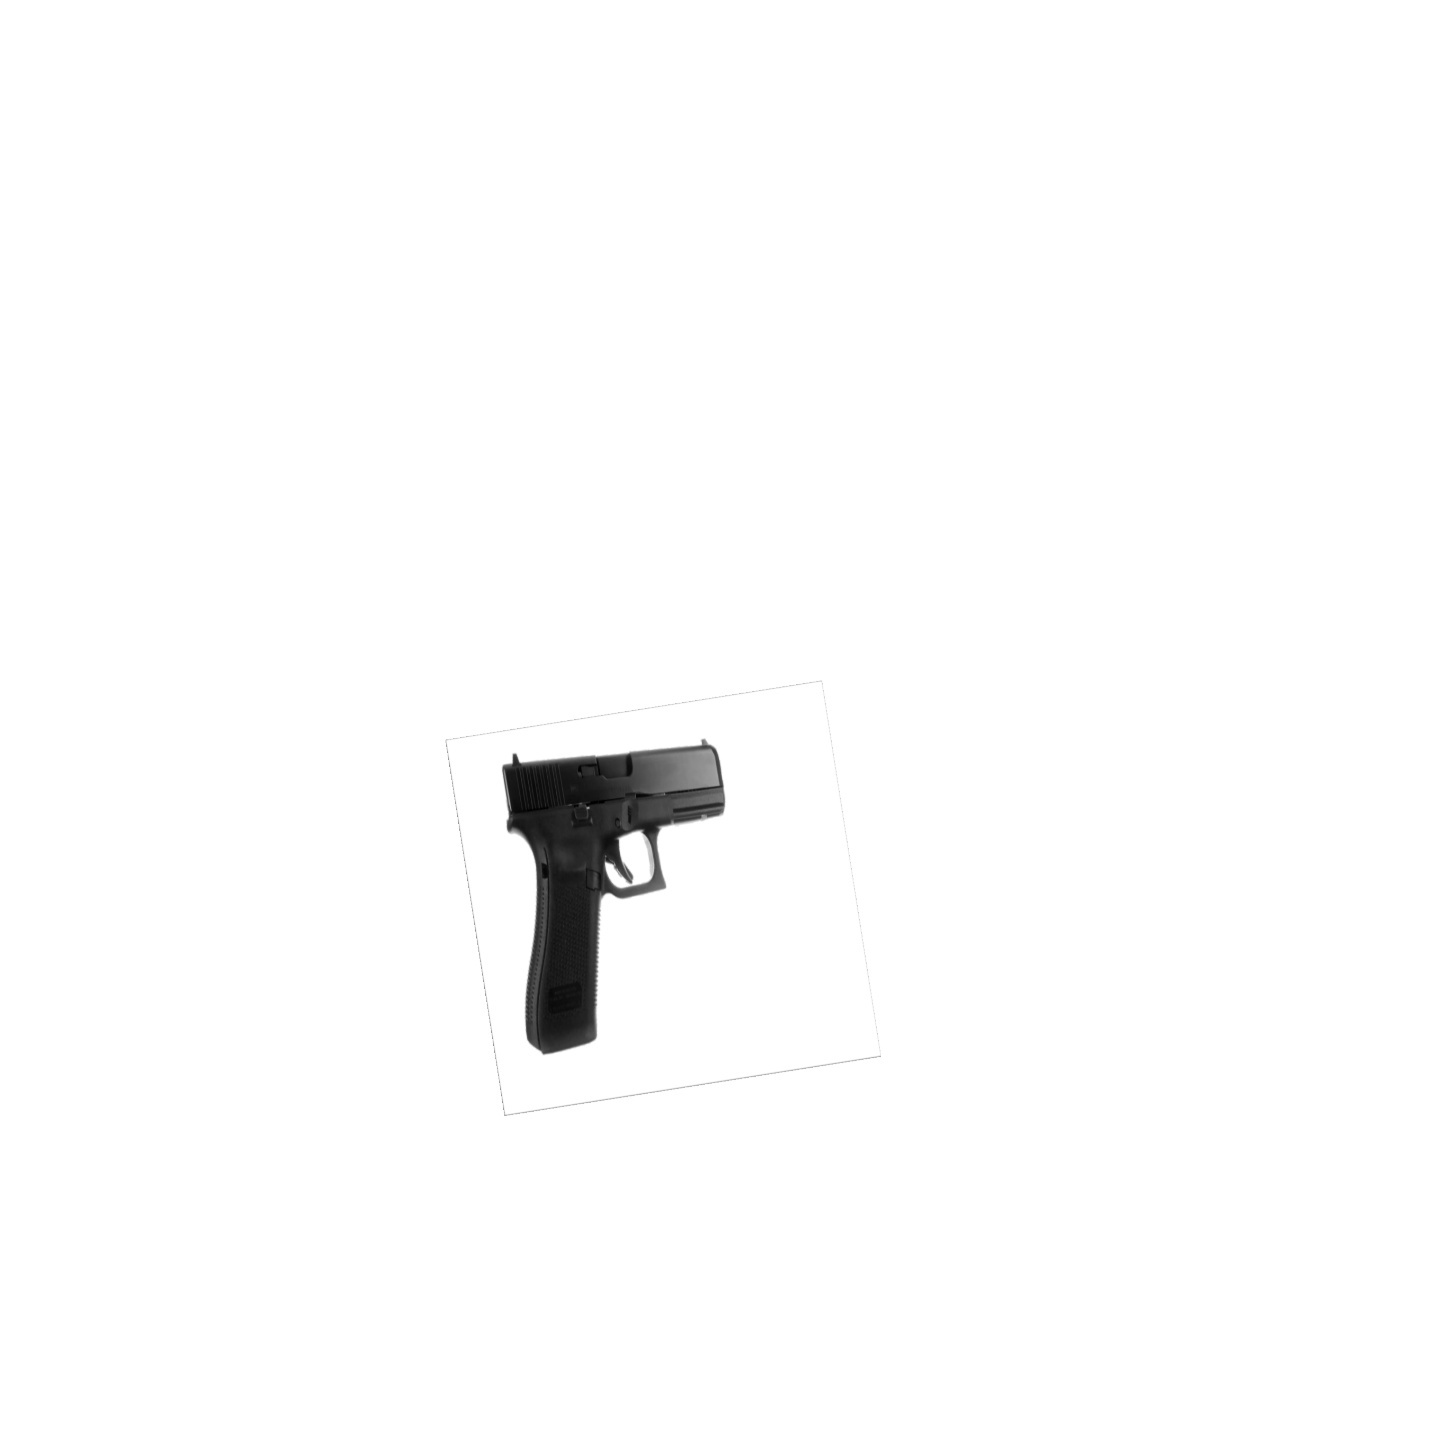gun: (500, 736, 726, 1052)
